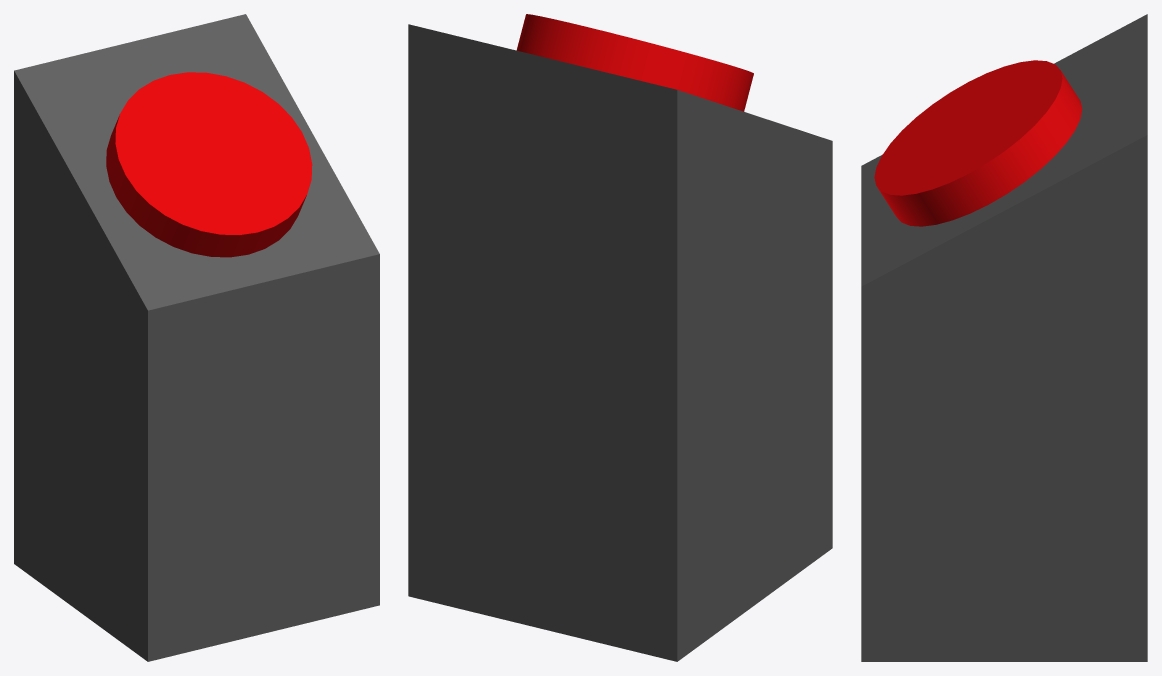
Rendered from Minimalist Level.fbx.
3 renders of one model, left to right at view 1: azimuth 30°, elevation 25°; view 2: azimuth 150°, elevation 25°; view 3: azimuth 270°, elevation 25°, orthographic. The views are drawn at different scales.
Visible parts, largest first — view 1: Handle, Button; view 2: Handle, Button; view 3: Handle, Button.
Boxes of the visible parts, left/top/right/bottom form: Handle: left=14, top=14, right=379, bottom=661; Button: left=106, top=72, right=312, bottom=257; Handle: left=408, top=24, right=832, bottom=661; Button: left=516, top=14, right=753, bottom=111; Handle: left=861, top=14, right=1147, bottom=661; Button: left=874, top=60, right=1082, bottom=226.
Size of the model in its own units: 34.16 by 69.45 by 34.16.
